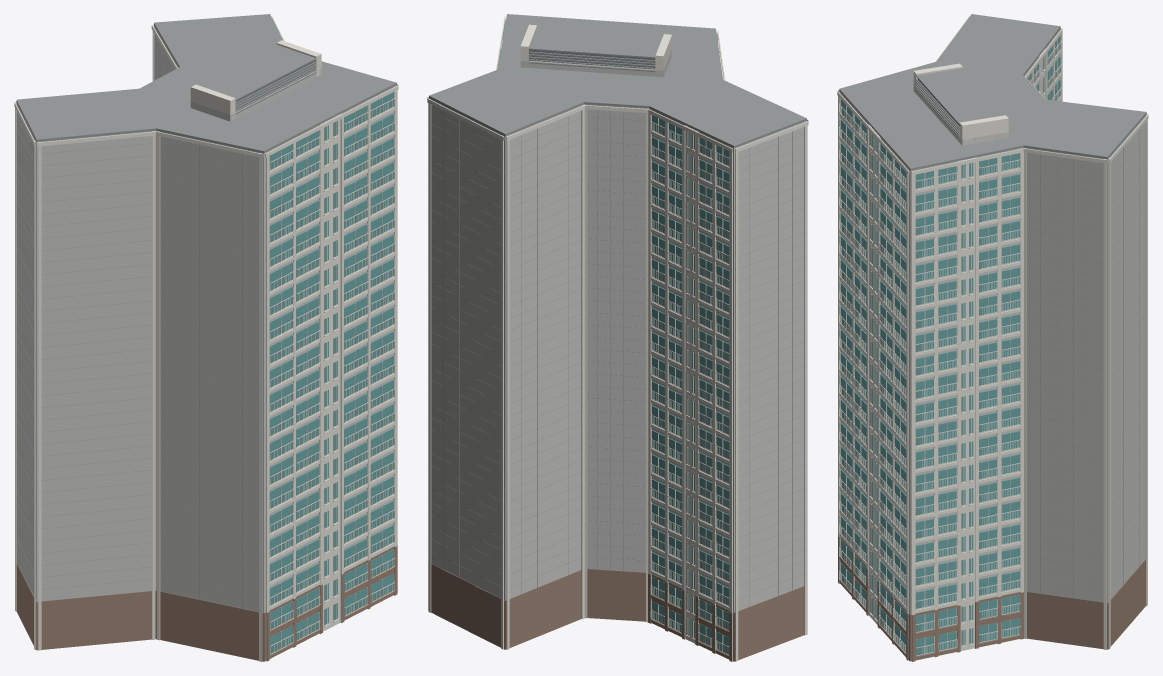
File: bespoke-jamsil-els-172.glb
3 views of the same model, side by side, from view 1: azimuth 30°, elevation 25°; view 2: azimuth 150°, elevation 25°; view 3: azimuth 270°, elevation 25° (orthographic). The views are drawn at different scales.
Parts seen in each view (by area): view 1: Els172_editable_Els172_light_grey_solid_wall, Els172_editable_Els172_turquoise_balcony_glazing, Els172_editable_Els172_modest_grey_flat_roof_caps, Els172_white_exact_chunk_1, Els172_white_exact_chunk_0, Els172_editable_Els172_muted_ground_wall, Els172_white_exact_chunk_2; view 2: Els172_editable_Els172_light_grey_solid_wall, Els172_editable_Els172_modest_grey_flat_roof_caps, Els172_white_exact_chunk_0, Els172_editable_Els172_turquoise_balcony_glazing, Els172_editable_Els172_muted_ground_wall, Els172_white_exact_chunk_2, Els172_editable_Els172_narrow_charcoal_service_strips; view 3: Els172_editable_Els172_light_grey_solid_wall, Els172_editable_Els172_turquoise_balcony_glazing, Els172_white_exact_chunk_2, Els172_editable_Els172_modest_grey_flat_roof_caps, Els172_white_exact_chunk_1, Els172_editable_Els172_muted_ground_wall, Els172_white_exact_chunk_0.
Boxes of the visible parts, box(x1,y1,x2,y2) form: Els172_editable_Els172_light_grey_solid_wall: box(16, 25, 396, 612); Els172_editable_Els172_turquoise_balcony_glazing: box(269, 92, 393, 653); Els172_editable_Els172_modest_grey_flat_roof_caps: box(16, 14, 396, 613); Els172_white_exact_chunk_1: box(266, 92, 394, 661); Els172_white_exact_chunk_0: box(14, 101, 341, 661); Els172_editable_Els172_muted_ground_wall: box(16, 545, 397, 661); Els172_white_exact_chunk_2: box(151, 16, 398, 622); Els172_editable_Els172_light_grey_solid_wall: box(429, 50, 806, 618); Els172_editable_Els172_modest_grey_flat_roof_caps: box(429, 14, 806, 611); Els172_white_exact_chunk_0: box(648, 31, 808, 661); Els172_editable_Els172_turquoise_balcony_glazing: box(497, 21, 729, 654); Els172_editable_Els172_muted_ground_wall: box(428, 562, 804, 661); Els172_white_exact_chunk_2: box(427, 16, 671, 649); Els172_editable_Els172_narrow_charcoal_service_strips: box(529, 49, 655, 67); Els172_editable_Els172_light_grey_solid_wall: box(839, 29, 1146, 627); Els172_editable_Els172_turquoise_balcony_glazing: box(840, 36, 1060, 655); Els172_white_exact_chunk_2: box(837, 63, 1148, 661); Els172_editable_Els172_modest_grey_flat_roof_caps: box(839, 14, 1146, 602); Els172_white_exact_chunk_1: box(838, 92, 906, 653); Els172_editable_Els172_muted_ground_wall: box(838, 536, 1145, 661); Els172_white_exact_chunk_0: box(838, 16, 1062, 624).
Bounding box in the file's own units: 37.42 × 57.15 × 31.49.
